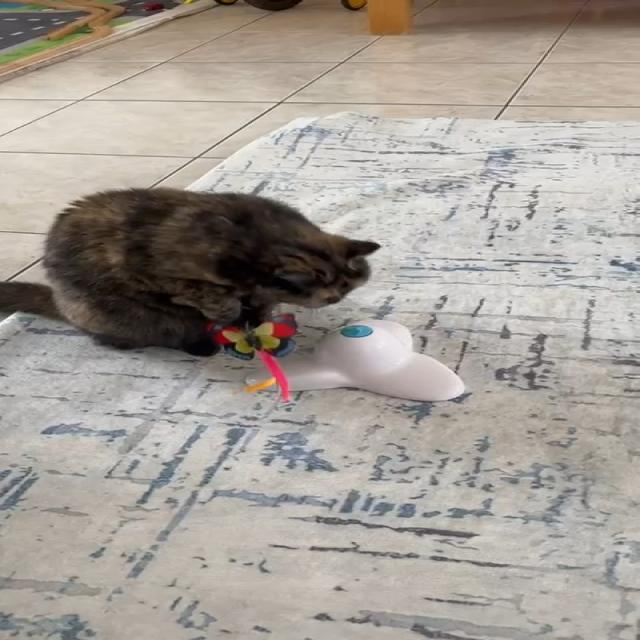authorized: (0, 185, 381, 357)
